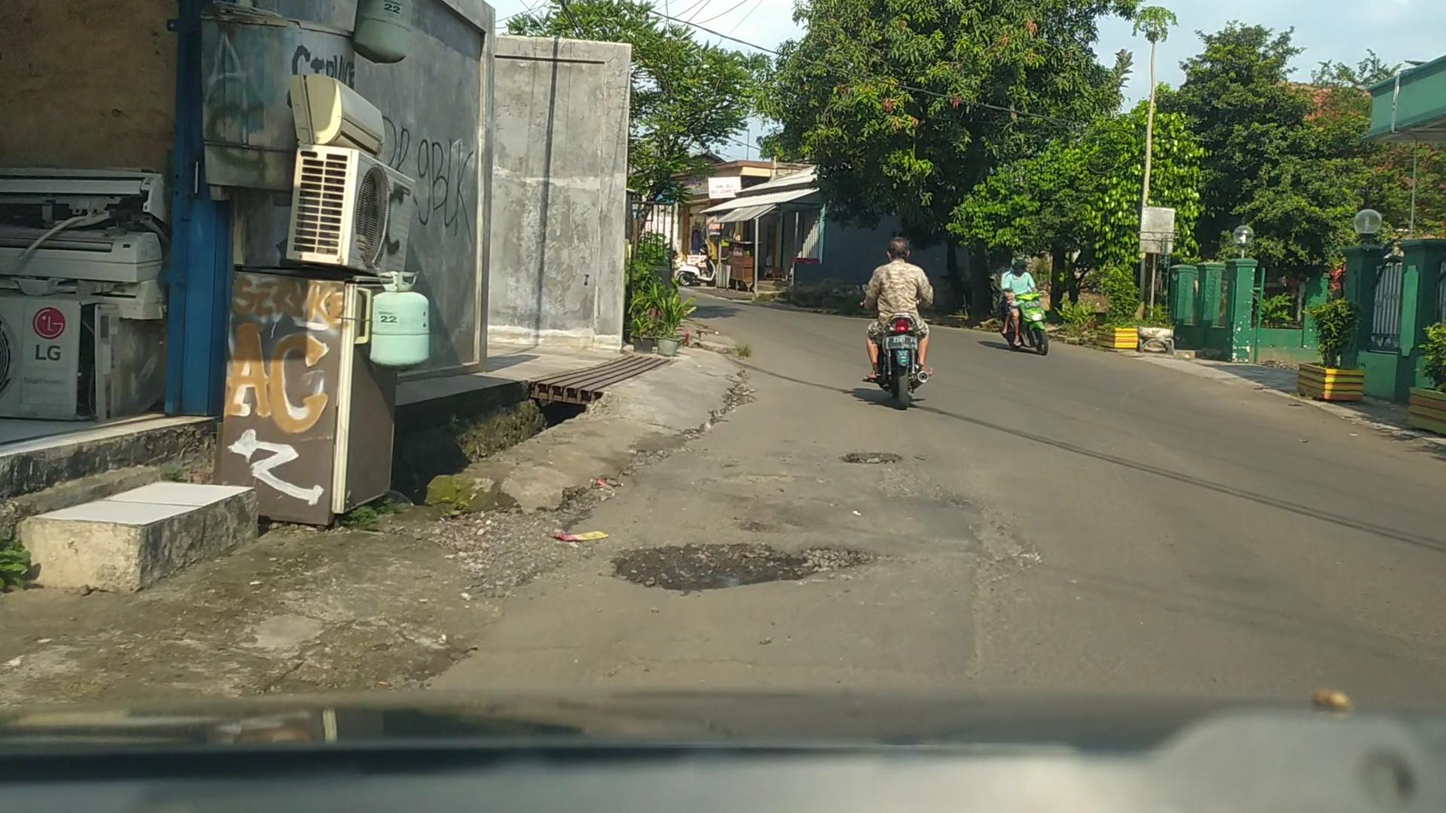pothole: (608, 538, 879, 595), (837, 449, 904, 467)
